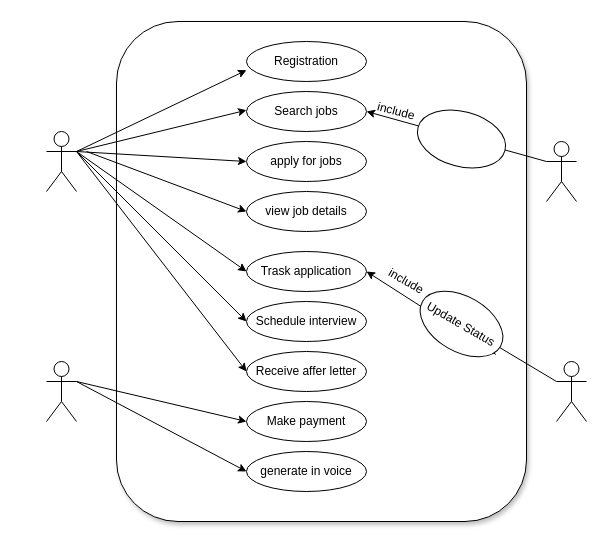
Image size: 616x546. Some labels were removed from this diagram. The shapes that lost their labels are listed below. From the top down, each one's centre as x and y in pixels, then its label:
the point at 461,138: Filter jobs
the point at 61,161: Student
the point at 561,171: Admin
the point at 61,391: payment System
the point at 571,391: Recruition
